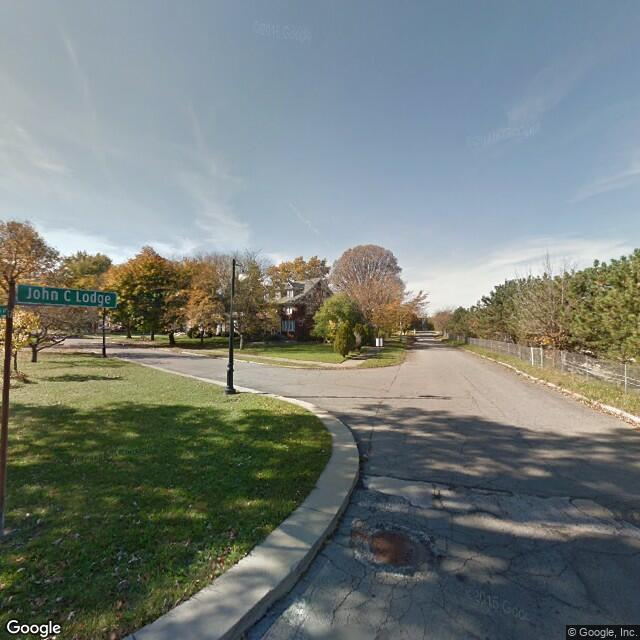litter: (50, 536, 67, 549), (65, 609, 78, 623), (126, 552, 140, 564), (203, 520, 213, 533), (23, 511, 34, 519)
